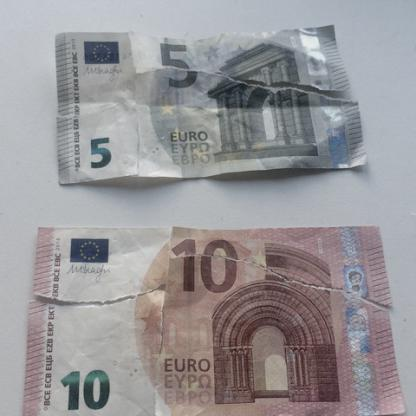euro_banknote: (22, 227, 407, 416), (57, 29, 367, 182)
